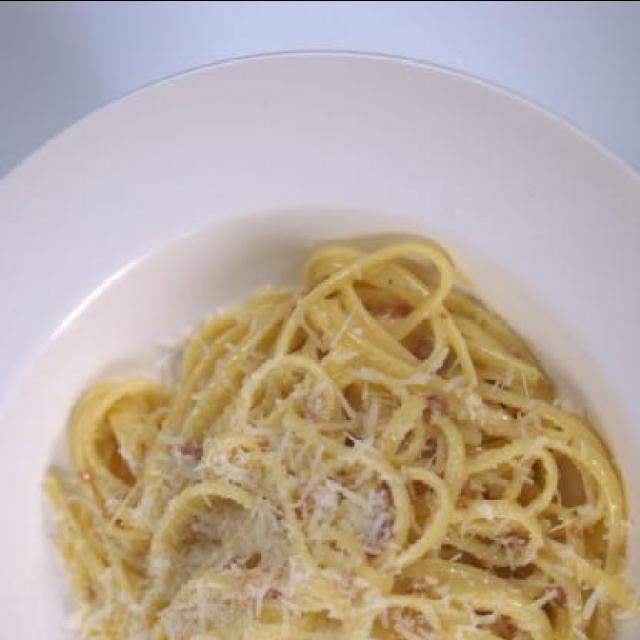Pasta with carbonara sauce: (27, 194, 605, 636)
